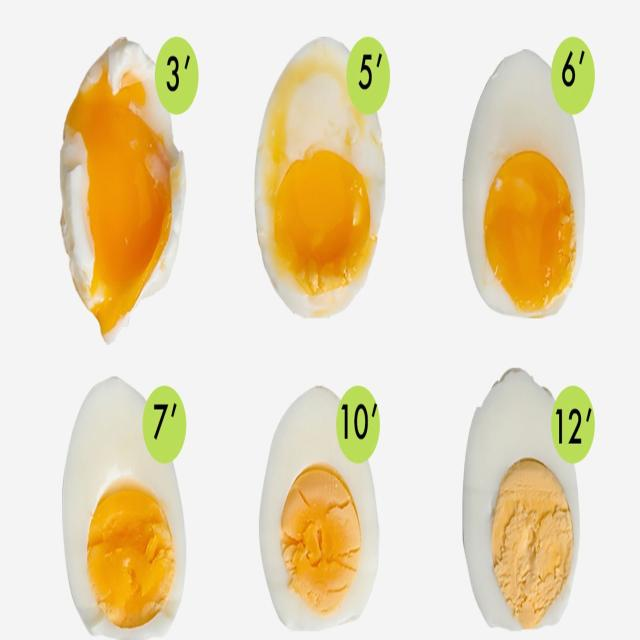huevos: (463, 364, 596, 634)
